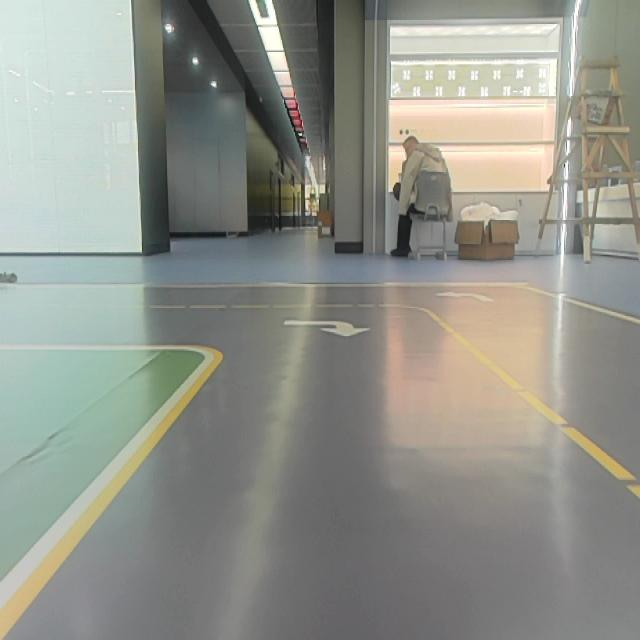left_lane: (424, 312, 638, 498)
right_lane: (6, 360, 225, 633), (523, 285, 635, 325)
